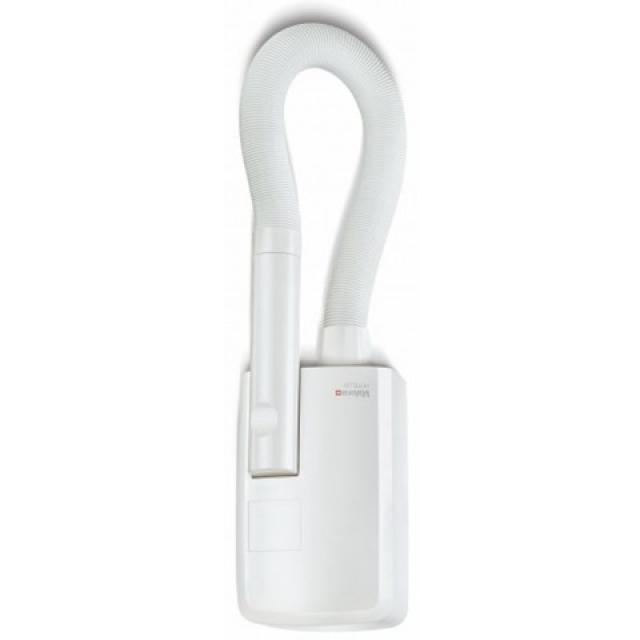dryer: (204, 10, 426, 636)
